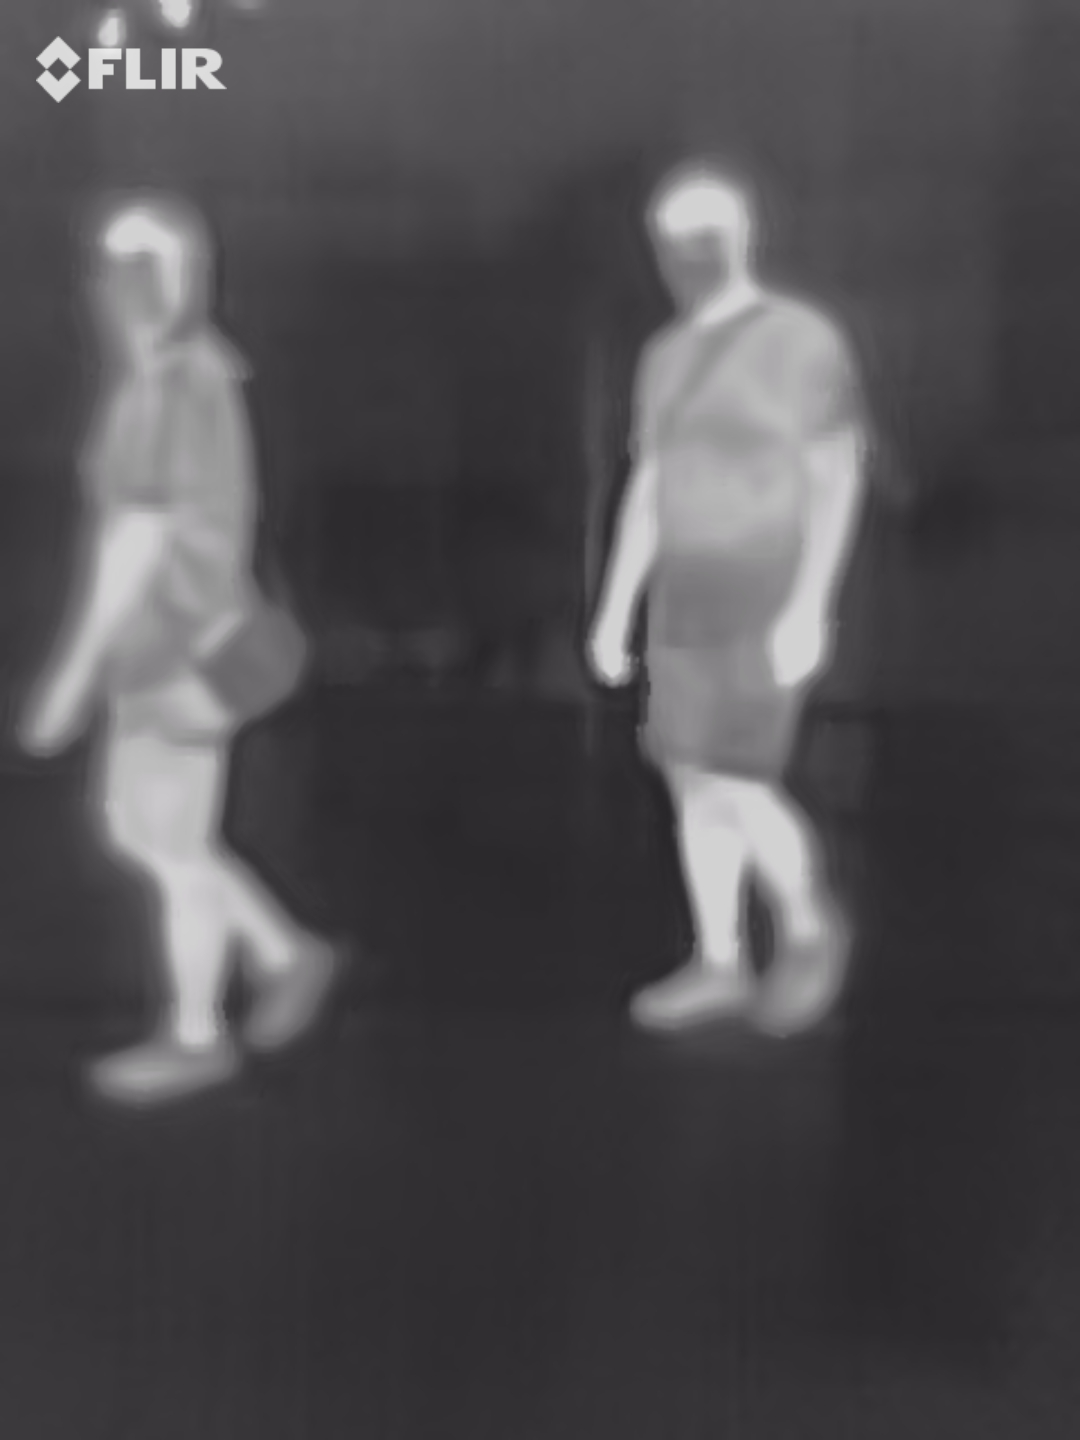head: (86, 194, 215, 353), (642, 165, 760, 321)
